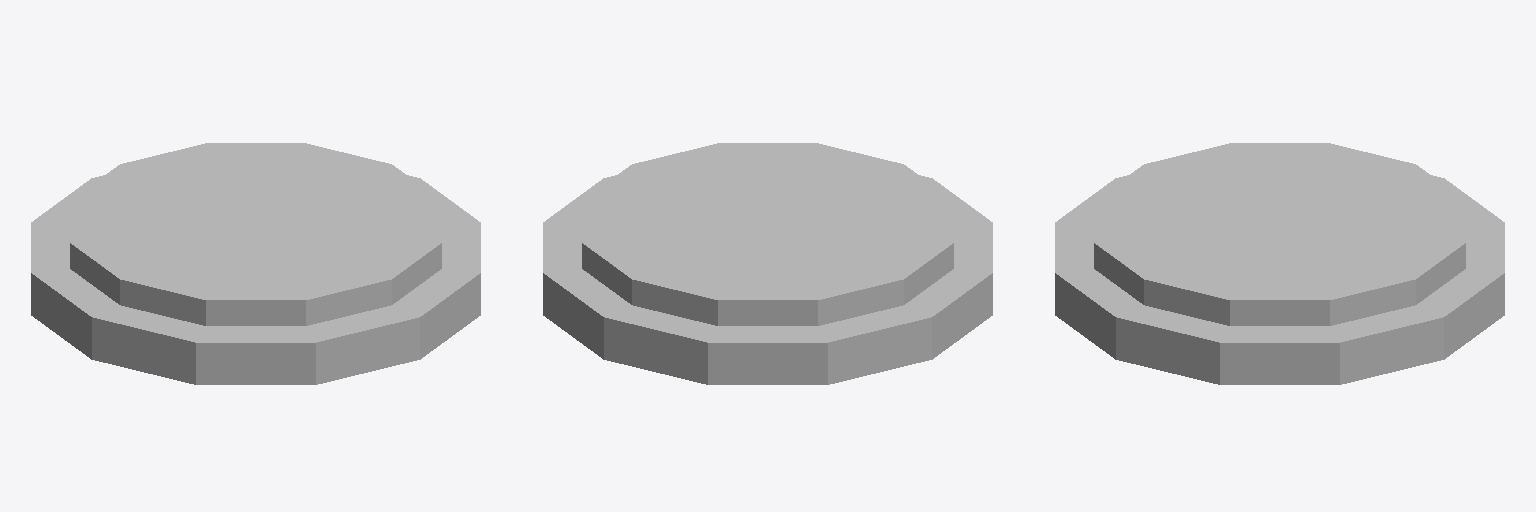
Rendered from solAutel.obj.
The picture shows the model from 3 angles: view 1: azimuth 30°, elevation 25°; view 2: azimuth 150°, elevation 25°; view 3: azimuth 270°, elevation 25°; orthographic projection.
Size of the model in its own units: 1.99 by 0.3337 by 1.99.